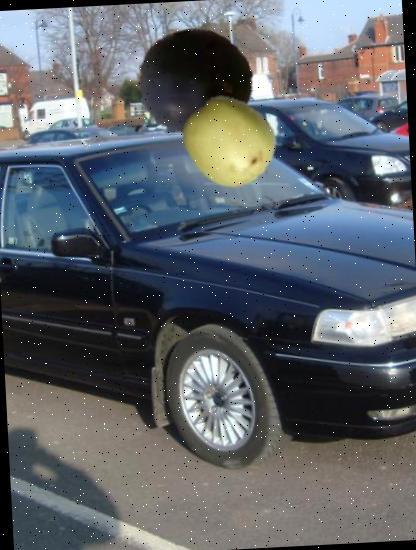Apple: (178, 91, 282, 194)
Plum: (135, 21, 257, 142)
